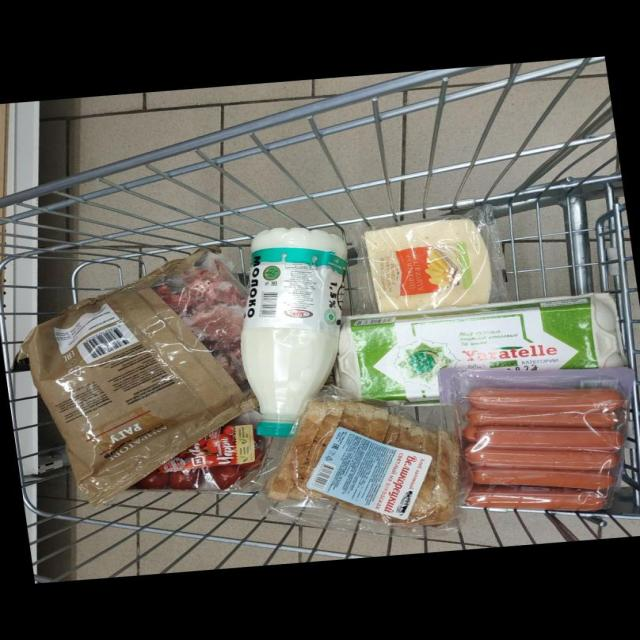Bread: (263, 393, 461, 536)
Cheese: (354, 206, 508, 314)
Eggs: (335, 293, 625, 403)
Meat: (18, 249, 256, 504)
Milk: (240, 228, 346, 437)
Sausages: (438, 367, 632, 512)
Tomatoes: (210, 464, 244, 489), (239, 445, 264, 472), (169, 469, 199, 490), (140, 469, 169, 490)
